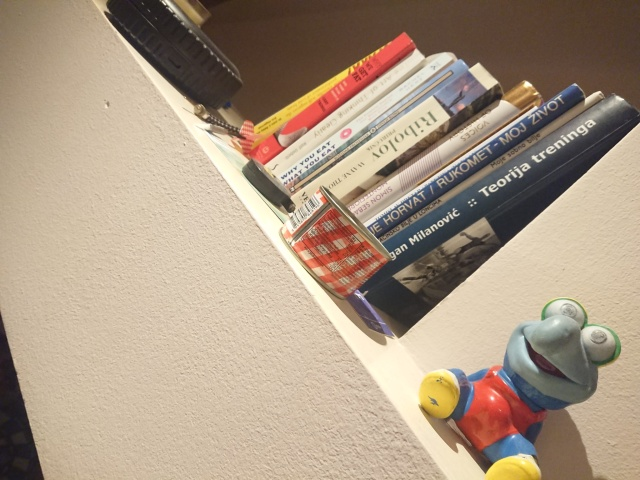Podravka Luncheon Meat 150g: (277, 183, 395, 302)
